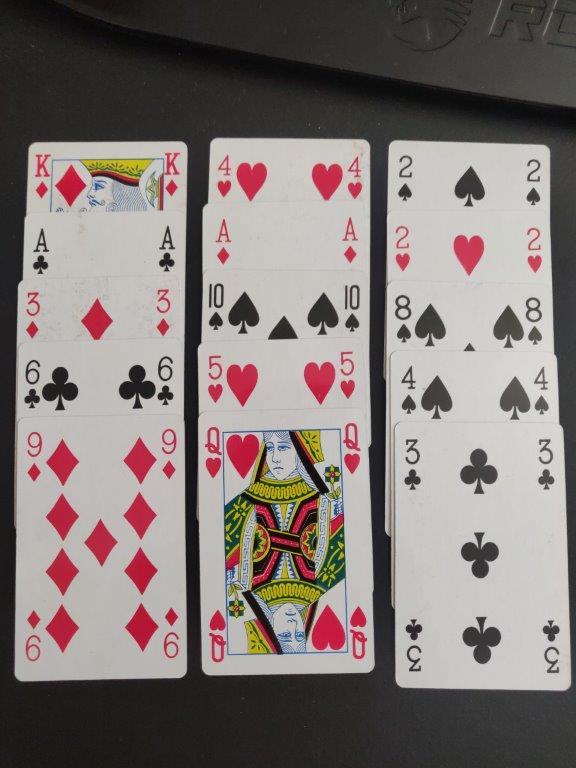10S: (203, 280, 230, 336), (339, 280, 364, 336)
2H: (390, 222, 418, 279), (522, 221, 549, 276)
2S: (392, 147, 419, 205), (522, 153, 545, 210)
3C: (396, 430, 426, 497), (533, 432, 559, 495)
3D: (151, 283, 176, 341), (20, 288, 46, 342)
4H: (211, 153, 237, 202), (345, 149, 364, 202)
4S: (396, 362, 422, 417), (533, 361, 553, 418)
5H: (334, 348, 361, 405), (203, 350, 227, 408)
6C: (152, 353, 177, 409), (21, 354, 43, 412)
8S: (388, 289, 418, 348), (519, 292, 549, 350)
9D: (22, 426, 48, 491), (157, 426, 180, 483)
AC: (27, 222, 55, 279), (153, 222, 180, 278)
AD: (207, 214, 238, 271), (338, 213, 362, 267)
KD: (30, 148, 54, 204), (161, 145, 184, 199)
QH: (200, 422, 228, 482), (340, 418, 364, 478)
